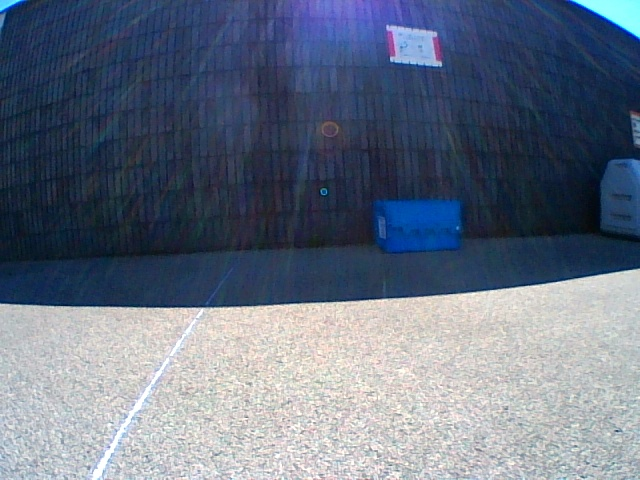blue_box: (375, 199, 459, 253)
tag: (378, 218, 385, 238)
